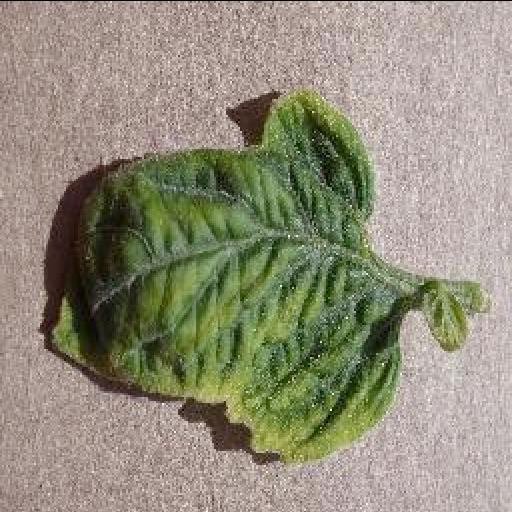disease_tomato: (50, 90, 404, 454)
